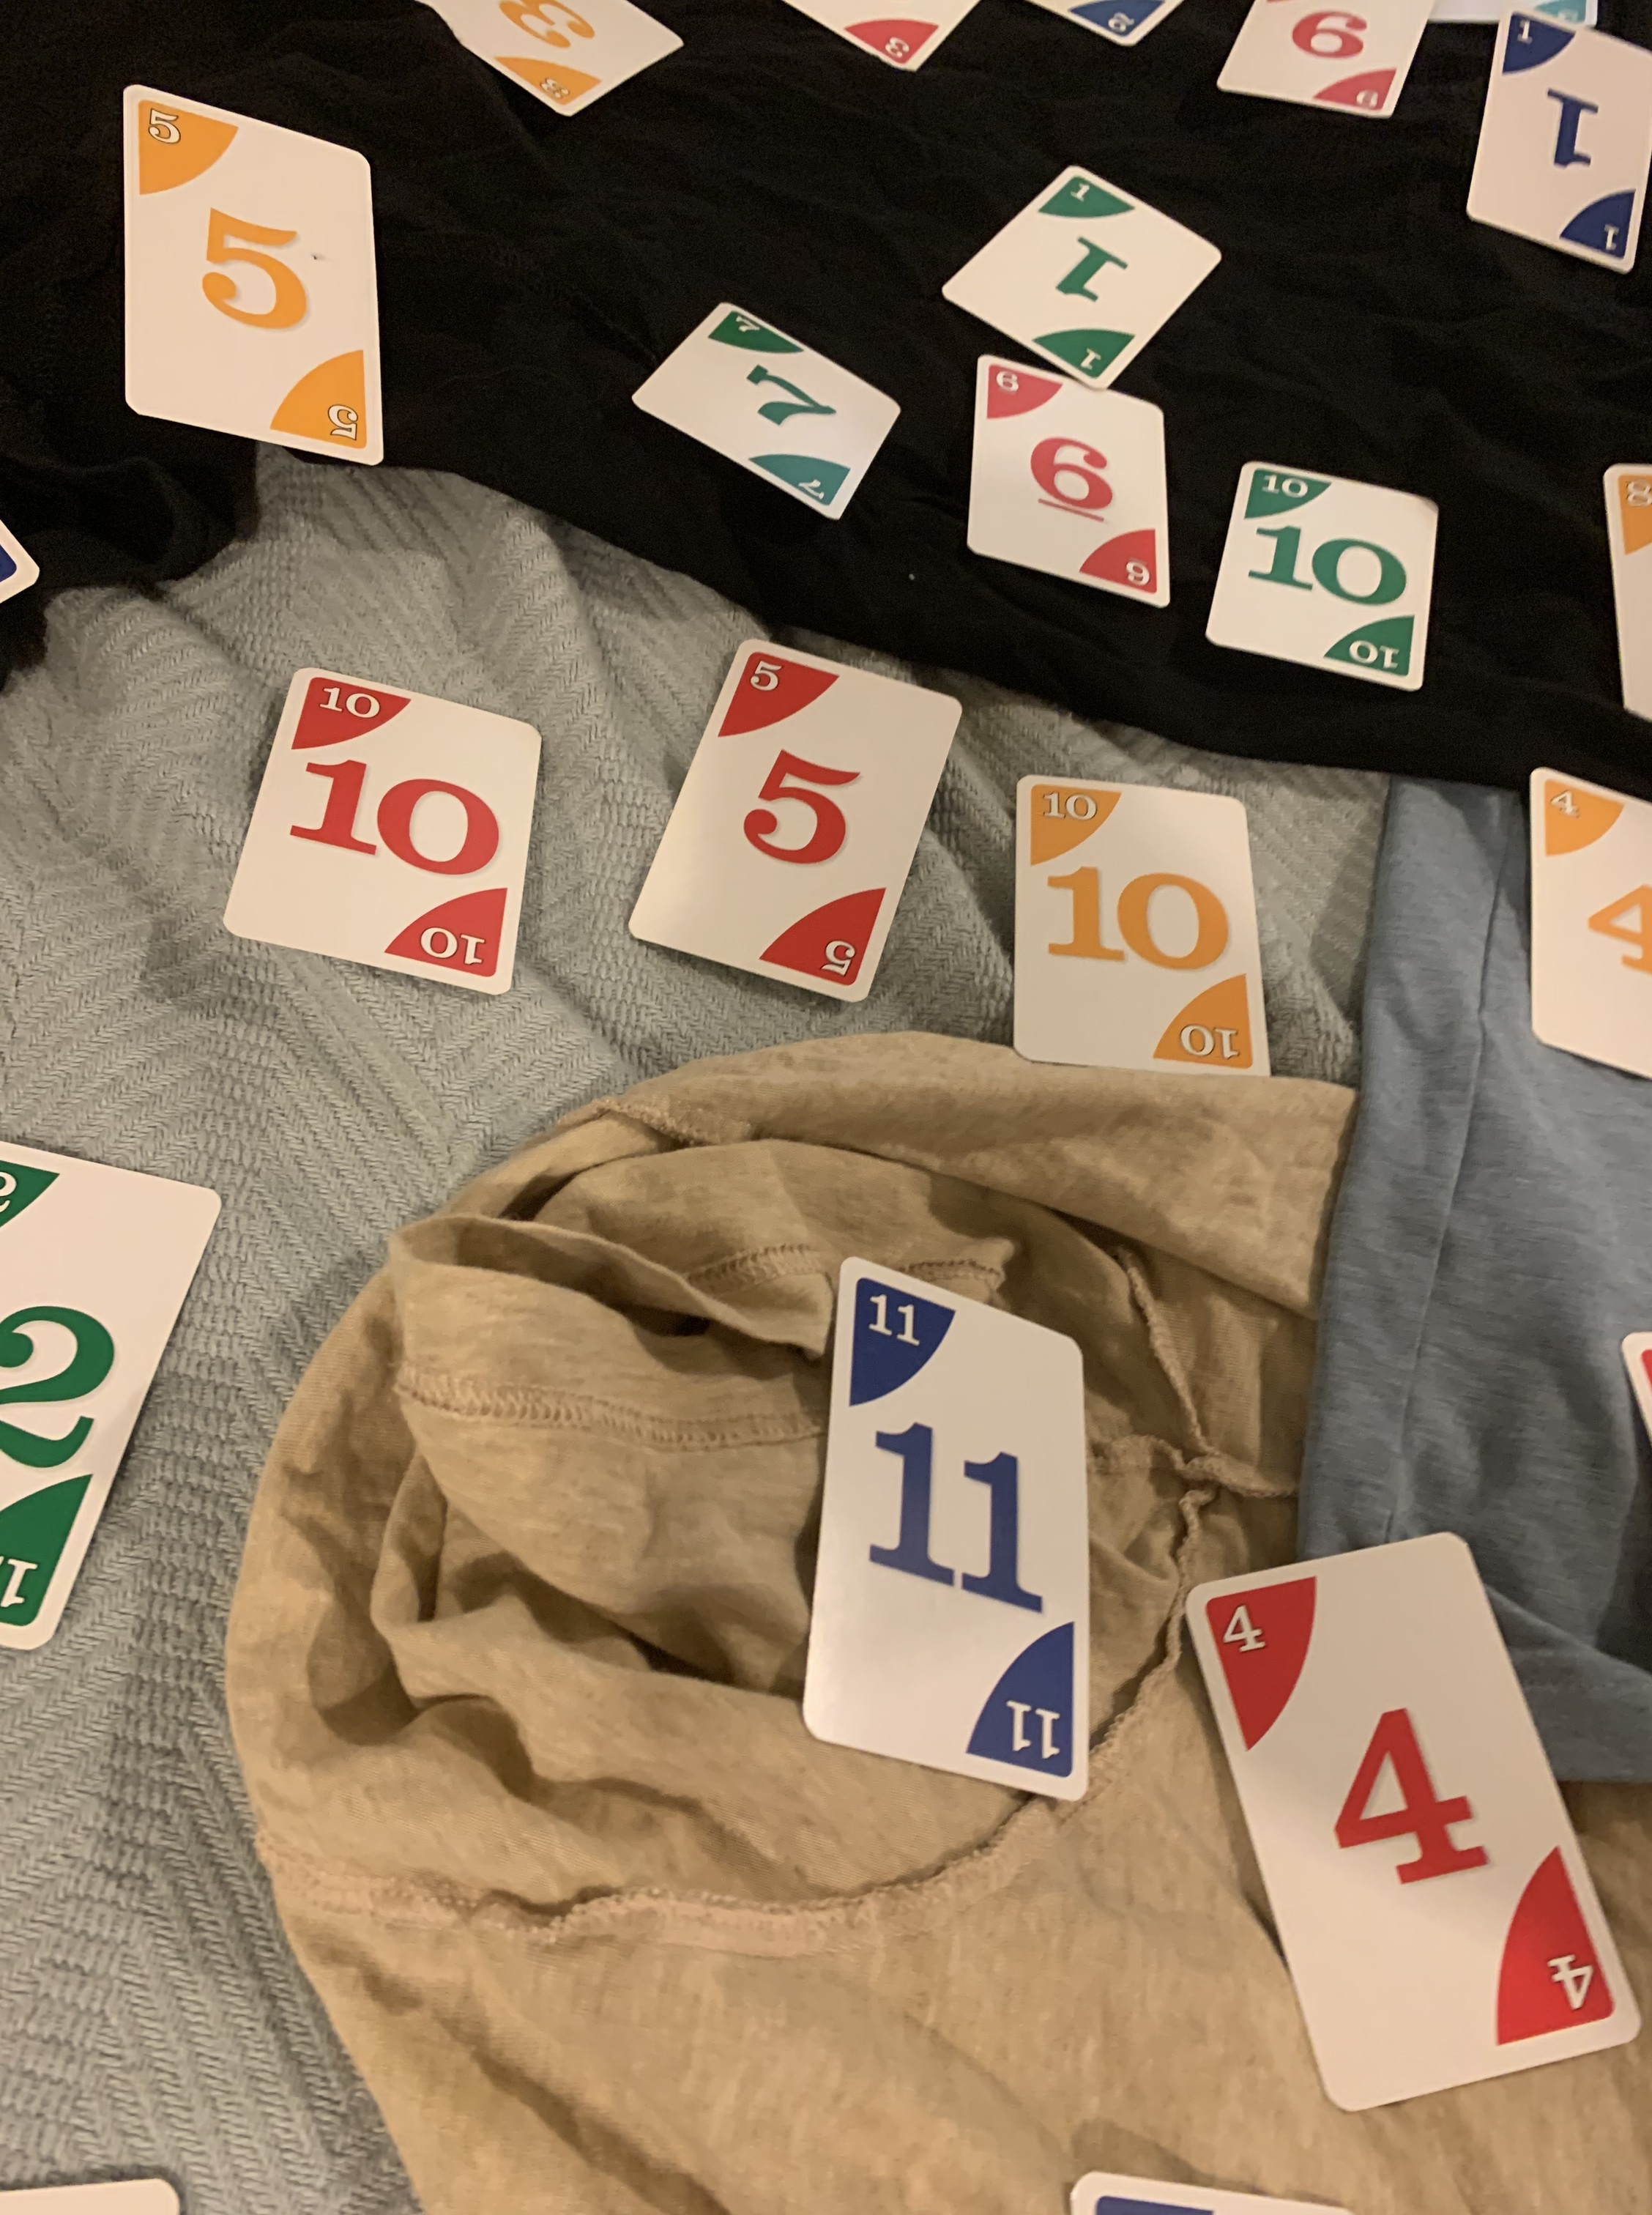eleven: (793, 1265, 1104, 1819)
five: (619, 632, 968, 1015), (116, 73, 389, 463)
four: (1168, 1517, 1652, 2135)
seven: (632, 295, 911, 533)
six: (947, 354, 1178, 616)
ten: (212, 661, 545, 998), (991, 772, 1270, 1078), (1197, 448, 1444, 700)
